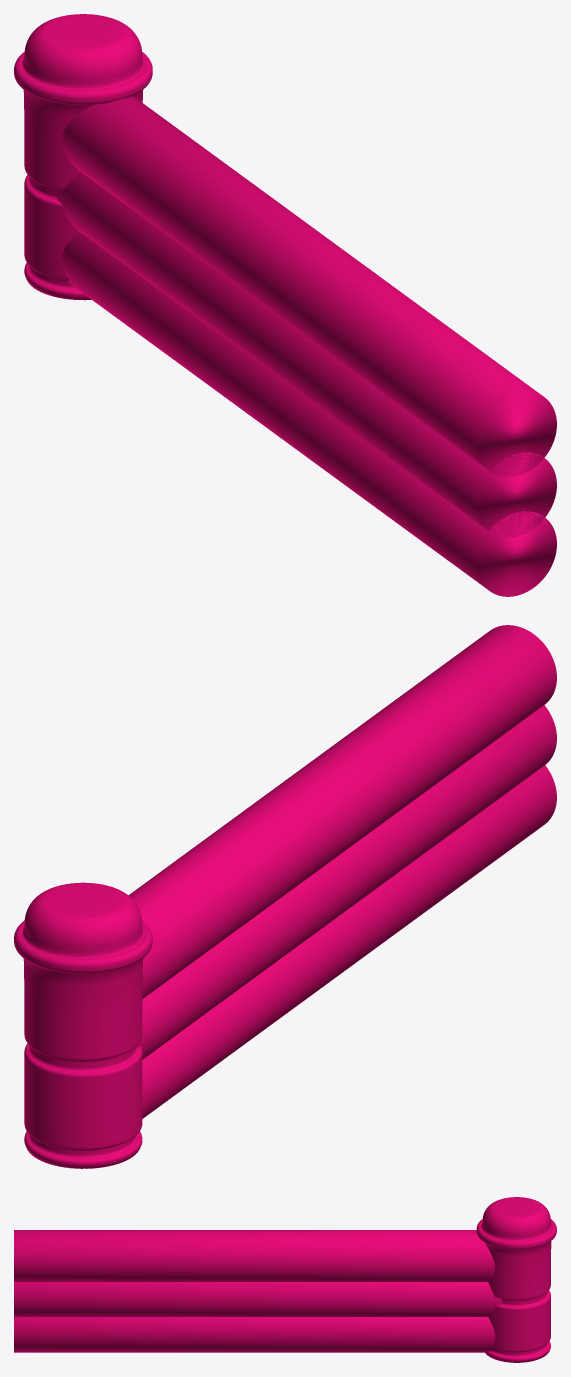
The model's file is border.glb.
3 views of the same model, one above another, from view 1: azimuth 30°, elevation 25°; view 2: azimuth 150°, elevation 25°; view 3: azimuth 270°, elevation 25° (orthographic). The views are drawn at different scales.
Parts seen in each view (by area): view 1: Cylinder.002, Cylinder.004, Cylinder.003, Cylinder; view 2: Cylinder.002, Cylinder, Cylinder.004, Cylinder.003; view 3: Cylinder.002, Cylinder.003, Cylinder.004, Cylinder.
Part boxes in pixels (bbox=[...]): Cylinder.002: bbox=[62, 96, 556, 476]; Cylinder.004: bbox=[56, 172, 556, 537]; Cylinder.003: bbox=[62, 232, 556, 596]; Cylinder: bbox=[14, 14, 152, 300]; Cylinder.002: bbox=[128, 625, 556, 998]; Cylinder: bbox=[14, 882, 152, 1168]; Cylinder.004: bbox=[136, 705, 556, 1059]; Cylinder.003: bbox=[142, 765, 556, 1118]; Cylinder.002: bbox=[14, 1230, 495, 1281]; Cylinder.003: bbox=[14, 1317, 495, 1352]; Cylinder.004: bbox=[14, 1282, 502, 1316]; Cylinder: bbox=[476, 1197, 556, 1362].
Bounding box in the file's own units: 2.35 × 4.67 × 15.85.
